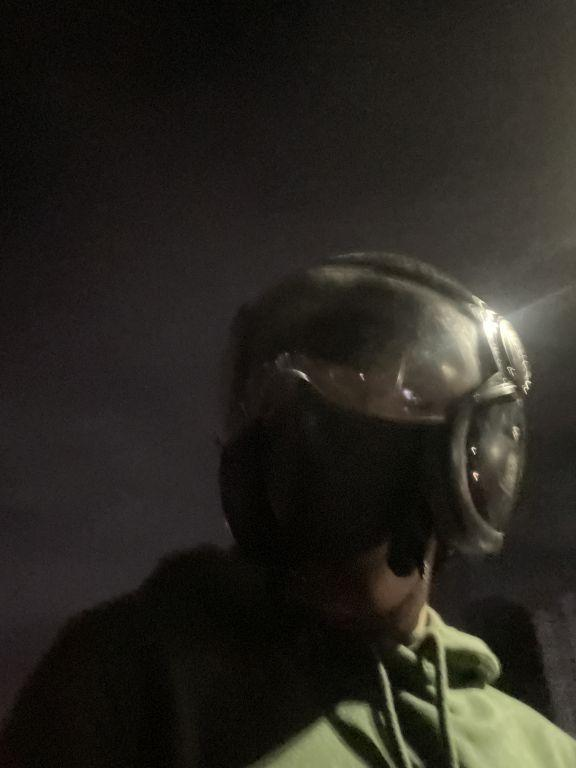helmet: (192, 229, 540, 577)
